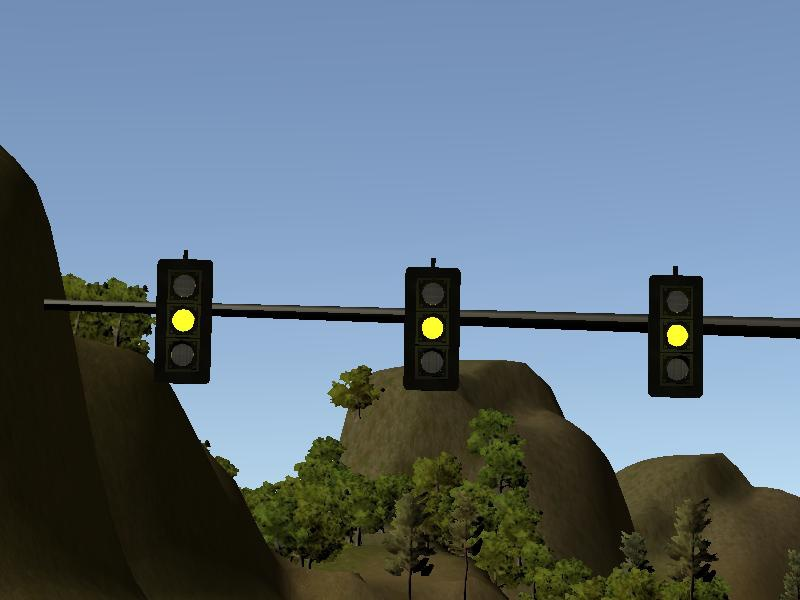Yellow: (158, 259, 210, 384), (407, 266, 458, 391), (650, 278, 703, 398)
